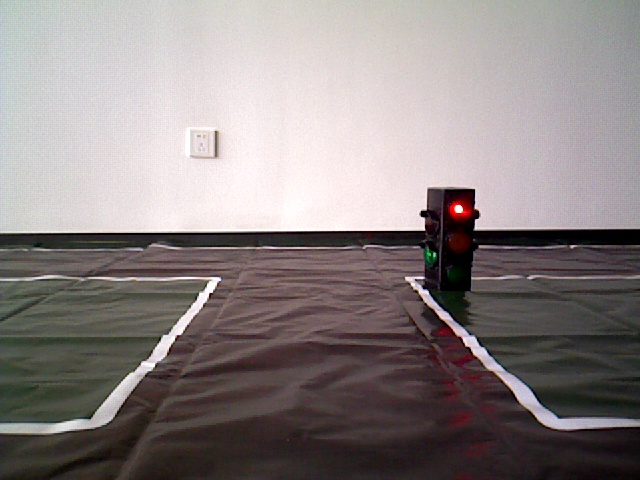red: (424, 185, 475, 289)
